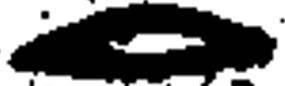Mouth: (7, 4, 277, 80)
